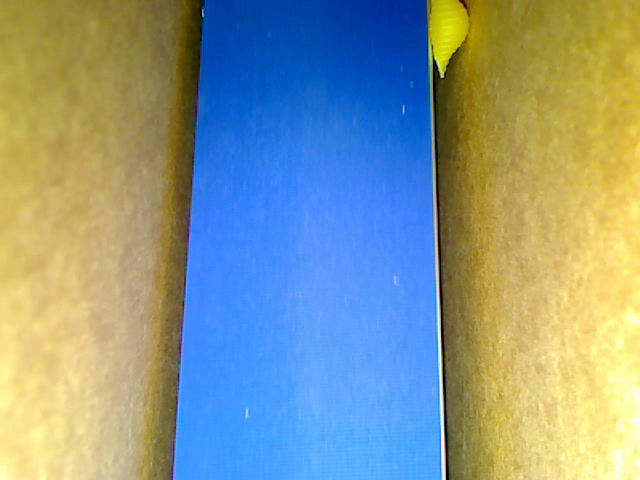shell: (428, 1, 472, 81)
